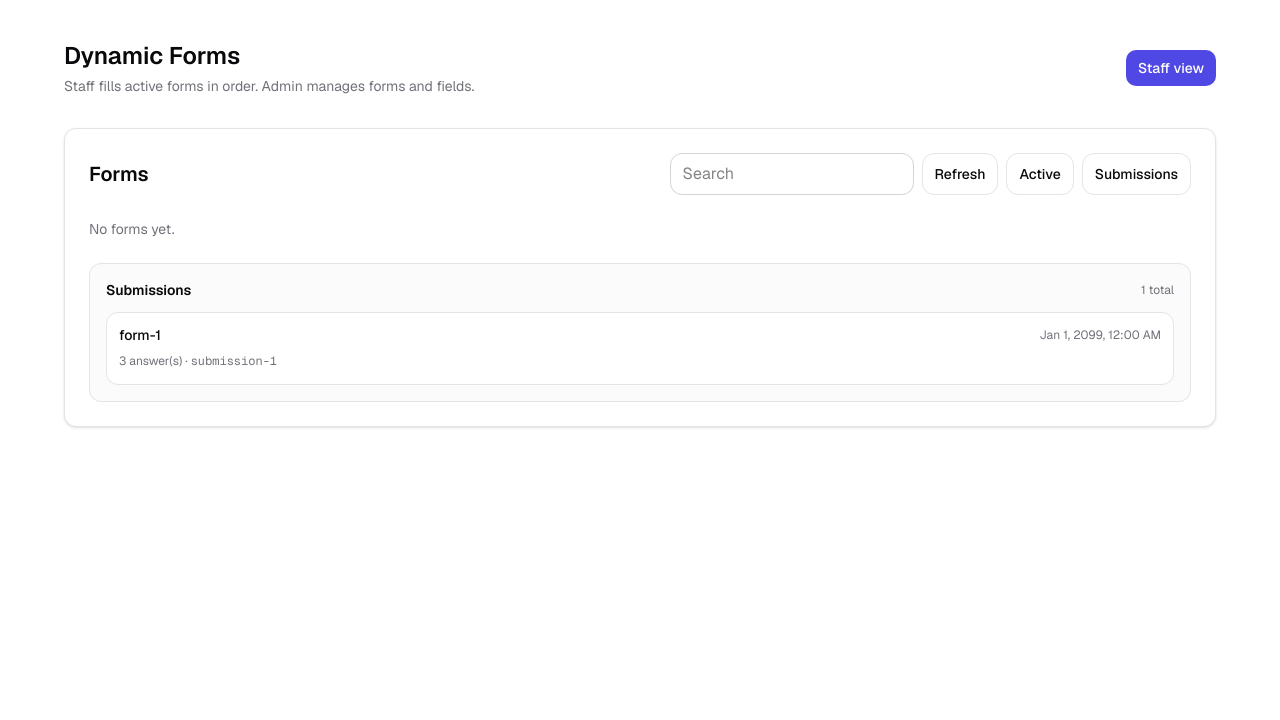
Test: FormsPageClient › expands and collapses submission details in staff view
Expected: the text "submission id" is not shown
Click the button with aria-label "toggle submission details" at (140, 335), box [119,325,1161,369]
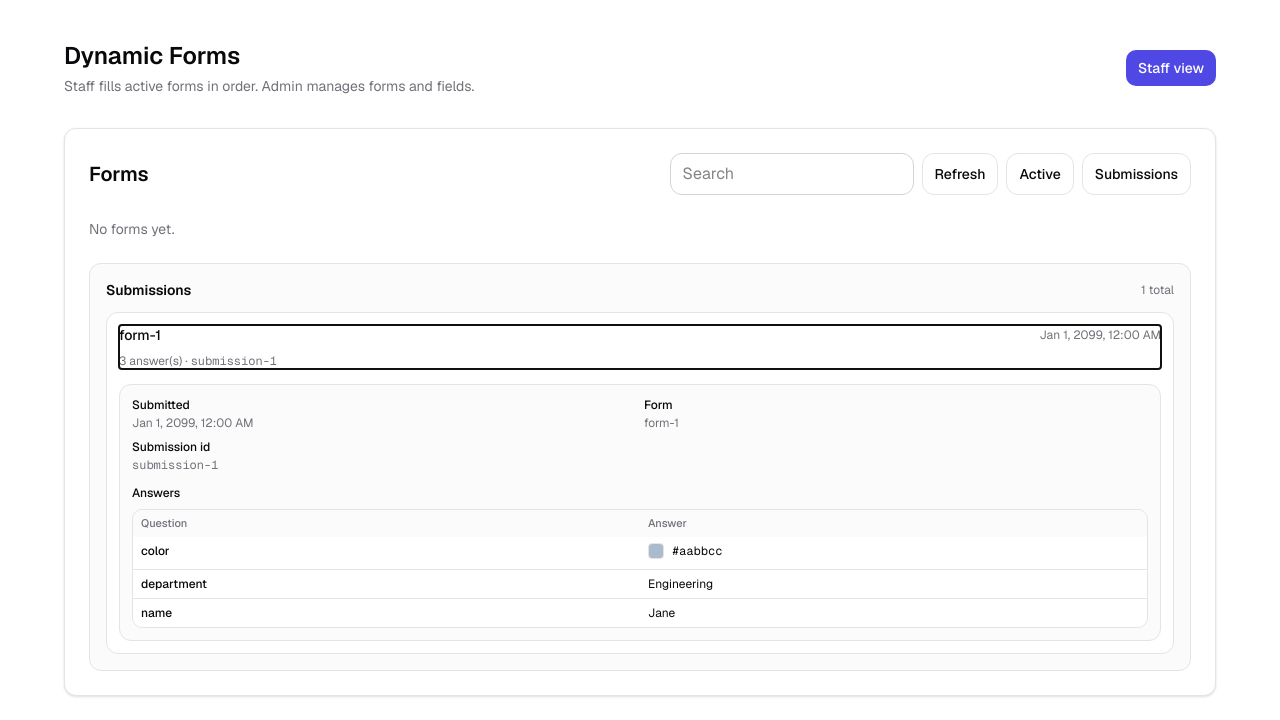
Expected: the text "Submission id" is shown, [132,439,210,455]
Expected: the text "Answers" is shown, [132,485,180,501]
Expected: the text "name" is shown, [141,605,172,621]
Click the button with aria-label "toggle submission details" at (140, 335), box [119,325,1161,369]
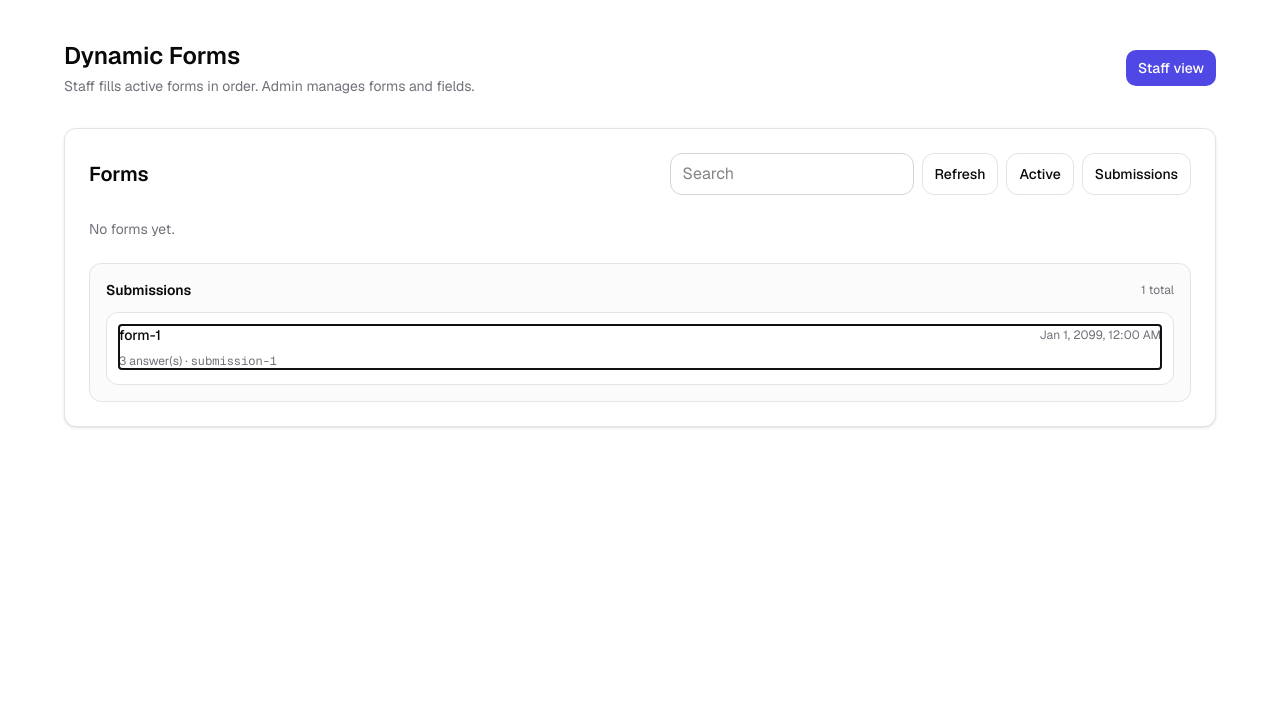
Expected: the text "Submission id" is gone
